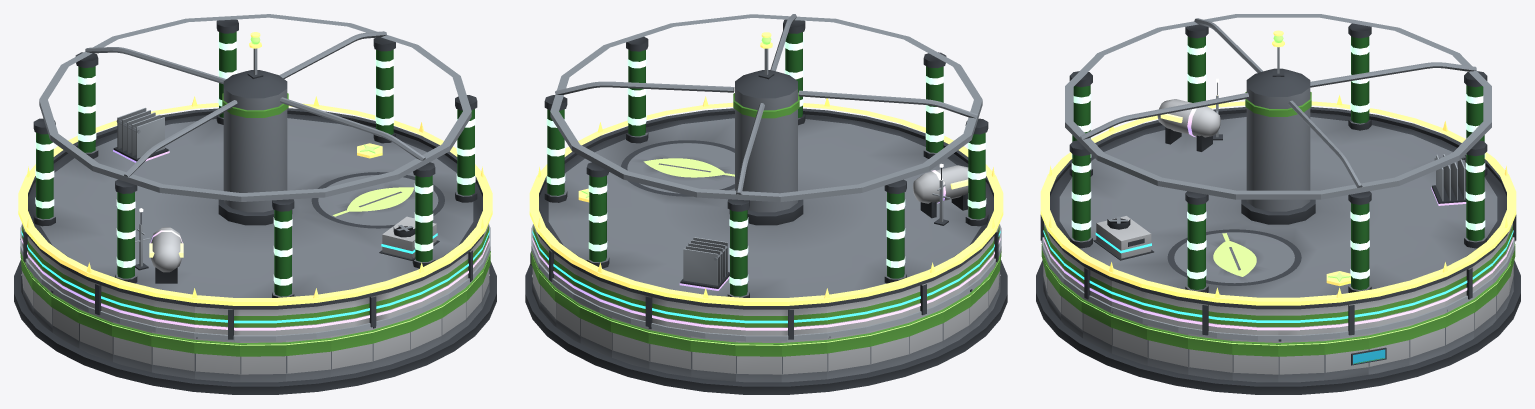
The model's file is algae_bioreactor_m.glb.
3 views of the same model, side by side, from view 1: azimuth 30°, elevation 25°; view 2: azimuth 150°, elevation 25°; view 3: azimuth 270°, elevation 25° (orthographic).
Visible parts, largest first — view 1: Roof, Base, L4, Wall_21, Wall_20, Wall_22, Wall_19, Wall_23, Wall_18, Wall_24, Wall_17, Wall_25 (+22 smaller); view 2: Roof, Base, L4, Wall_10, Wall_11, Wall_09, Wall_12, Wall_08, Wall_13, Wall_07, Wall_14, Wall_06 (+21 smaller); view 3: Roof, Base, L4, Wall_00, Wall_31, L3, Wall_30, Wall_29, Wall_01, Wall_02, Wall_28, Wall_03 (+22 smaller).
Part boxes in pixels (left/top/right/bottom): Roof: left=26, top=14, right=484, bottom=309; Base: left=14, top=260, right=496, bottom=394; L4: left=113, top=107, right=183, bottom=283; Wall_21: left=240, top=341, right=286, bottom=382; Wall_20: left=194, top=337, right=240, bottom=382; Wall_22: left=286, top=336, right=331, bottom=381; Wall_19: left=151, top=331, right=194, bottom=379; Wall_23: left=330, top=328, right=373, bottom=376; Wall_18: left=112, top=321, right=151, bottom=372; Wall_24: left=372, top=317, right=410, bottom=368; Wall_17: left=78, top=308, right=112, bottom=361; Wall_25: left=410, top=303, right=442, bottom=357; Roof: left=537, top=14, right=995, bottom=309; Base: left=525, top=260, right=1007, bottom=394; L4: left=679, top=165, right=968, bottom=290; Wall_10: left=735, top=341, right=781, bottom=382; Wall_11: left=781, top=338, right=827, bottom=382; Wall_09: left=690, top=336, right=735, bottom=381; Wall_12: left=827, top=331, right=870, bottom=379; Wall_08: left=648, top=327, right=691, bottom=376; Wall_13: left=870, top=321, right=909, bottom=372; Wall_07: left=611, top=317, right=649, bottom=368; Wall_14: left=909, top=308, right=943, bottom=361; Wall_06: left=579, top=303, right=611, bottom=357; Roof: left=1048, top=14, right=1508, bottom=309; Base: left=1036, top=260, right=1520, bottom=394; L4: left=1157, top=99, right=1466, bottom=205; Wall_00: left=1278, top=339, right=1324, bottom=382; Wall_31: left=1232, top=339, right=1278, bottom=382; L3: left=1093, top=216, right=1153, bottom=260; Wall_30: left=1188, top=334, right=1232, bottom=380; Wall_29: left=1147, top=325, right=1188, bottom=374; Wall_01: left=1324, top=334, right=1368, bottom=380; Wall_02: left=1368, top=325, right=1409, bottom=374; Wall_28: left=1111, top=311, right=1147, bottom=365; Wall_03: left=1409, top=313, right=1445, bottom=365.
Size of the model in its own units: 13.25 by 7.84 by 13.25.
